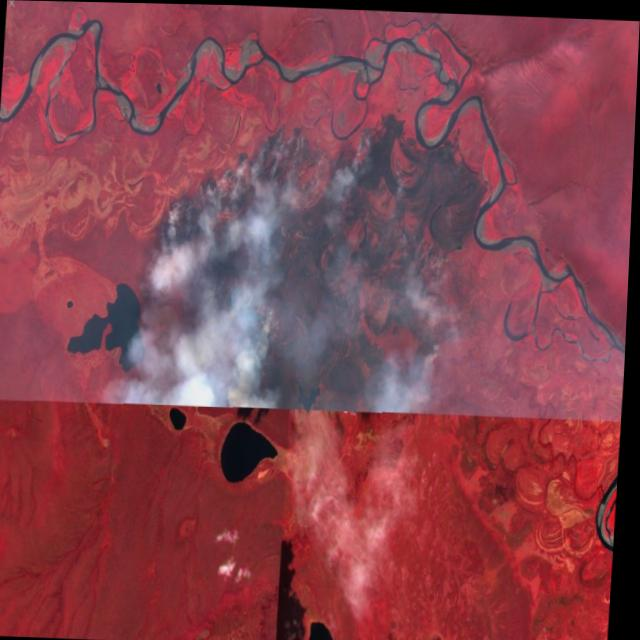fire: (141, 110, 473, 415)
